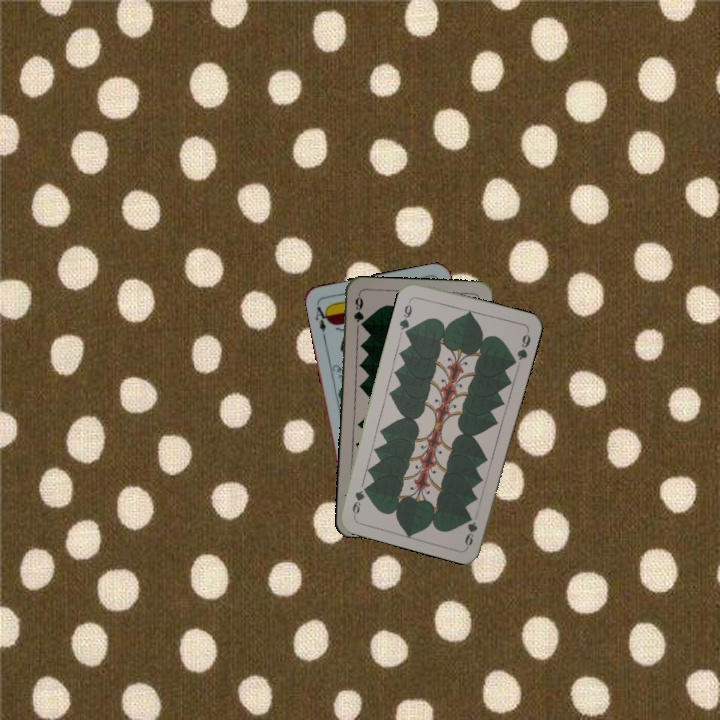EA: (311, 302, 332, 340)
G9: (395, 295, 415, 336), (461, 511, 480, 549), (350, 291, 366, 325)
